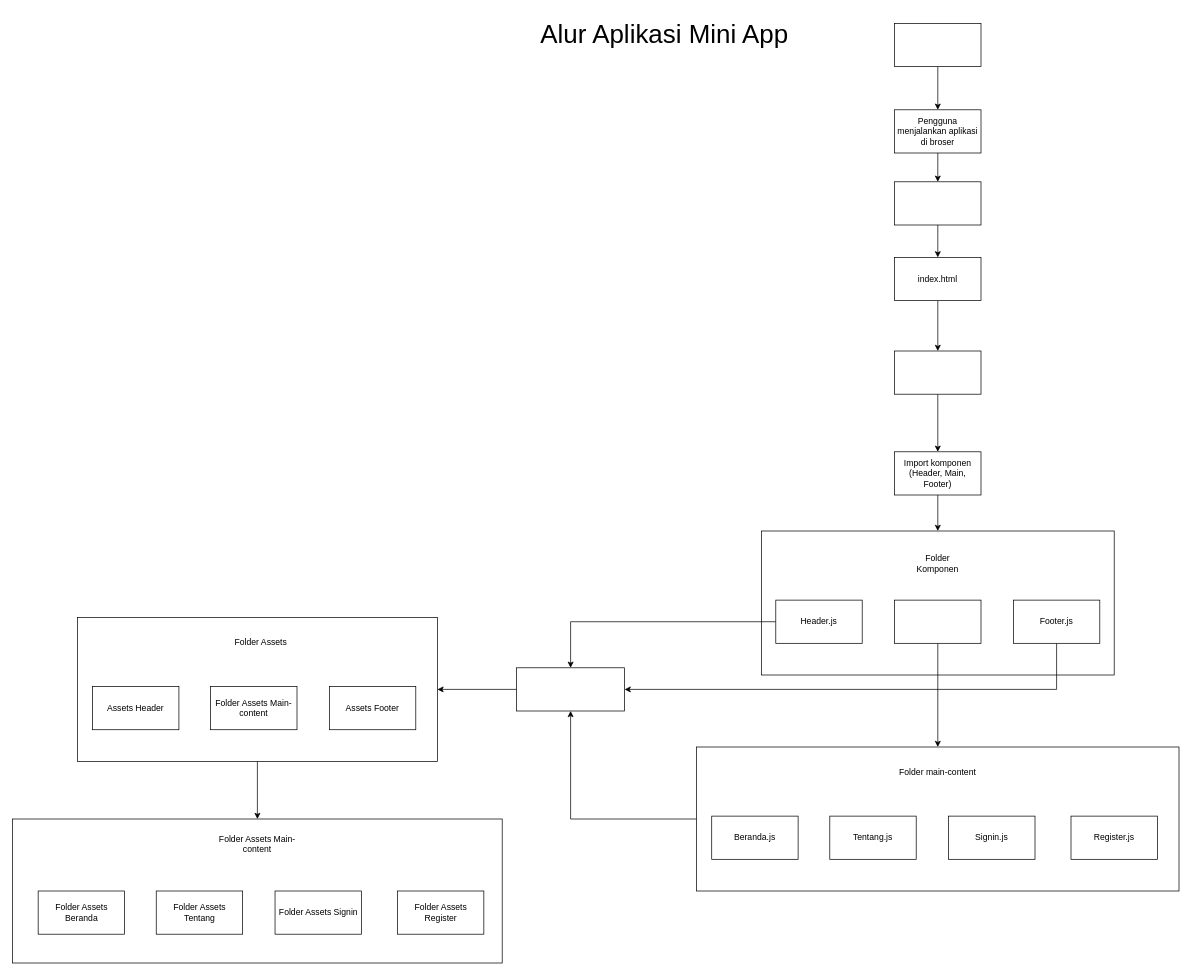
The diagram is 1192 pixels wide and 976 high, and some of its shapes have lost their labels. Here are the shapes that lost their labels. From the top down, the centre of each, then its label:
At point 937,45: "Pengguna Melakukan build project".
At point 937,203: "server react.js melakukan render aplikasi".
At point 937,372: "App.js".
At point 937,621: "Main-content.js import Beranda, Tentang, Signin, register".
At point 570,689: "Import Assets yang dibutuhkan".
